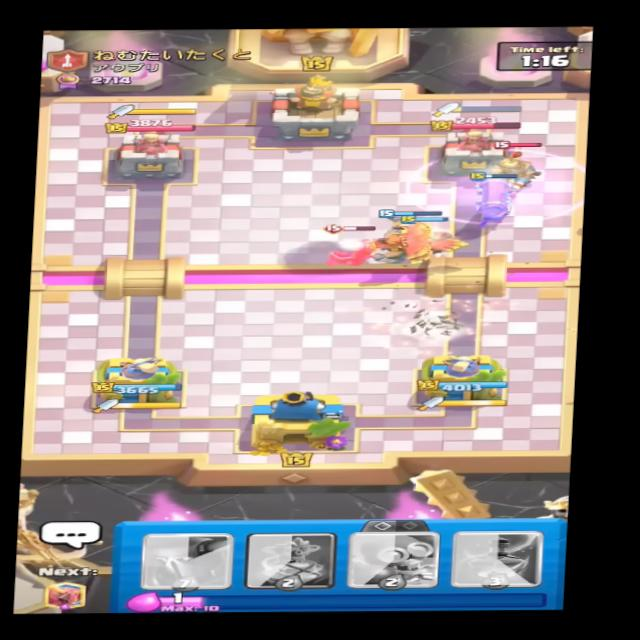evo-knight: (318, 221, 388, 264)
prince: (487, 136, 562, 184)
